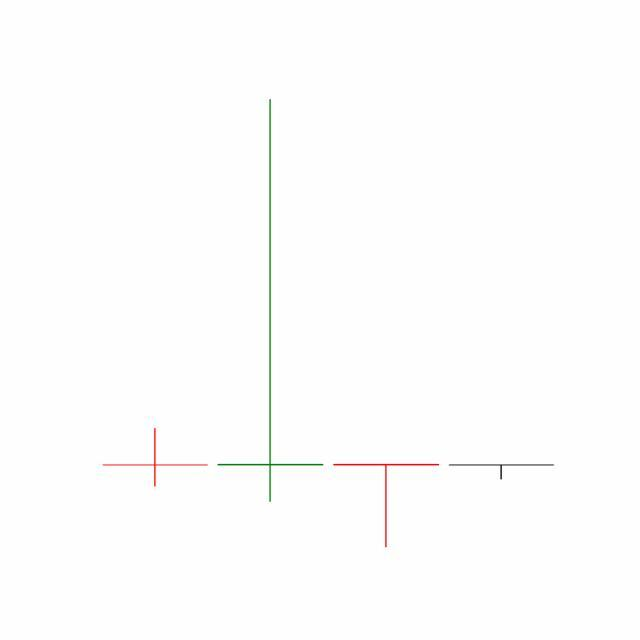Dragonfly Doji: (444, 465, 560, 482)
